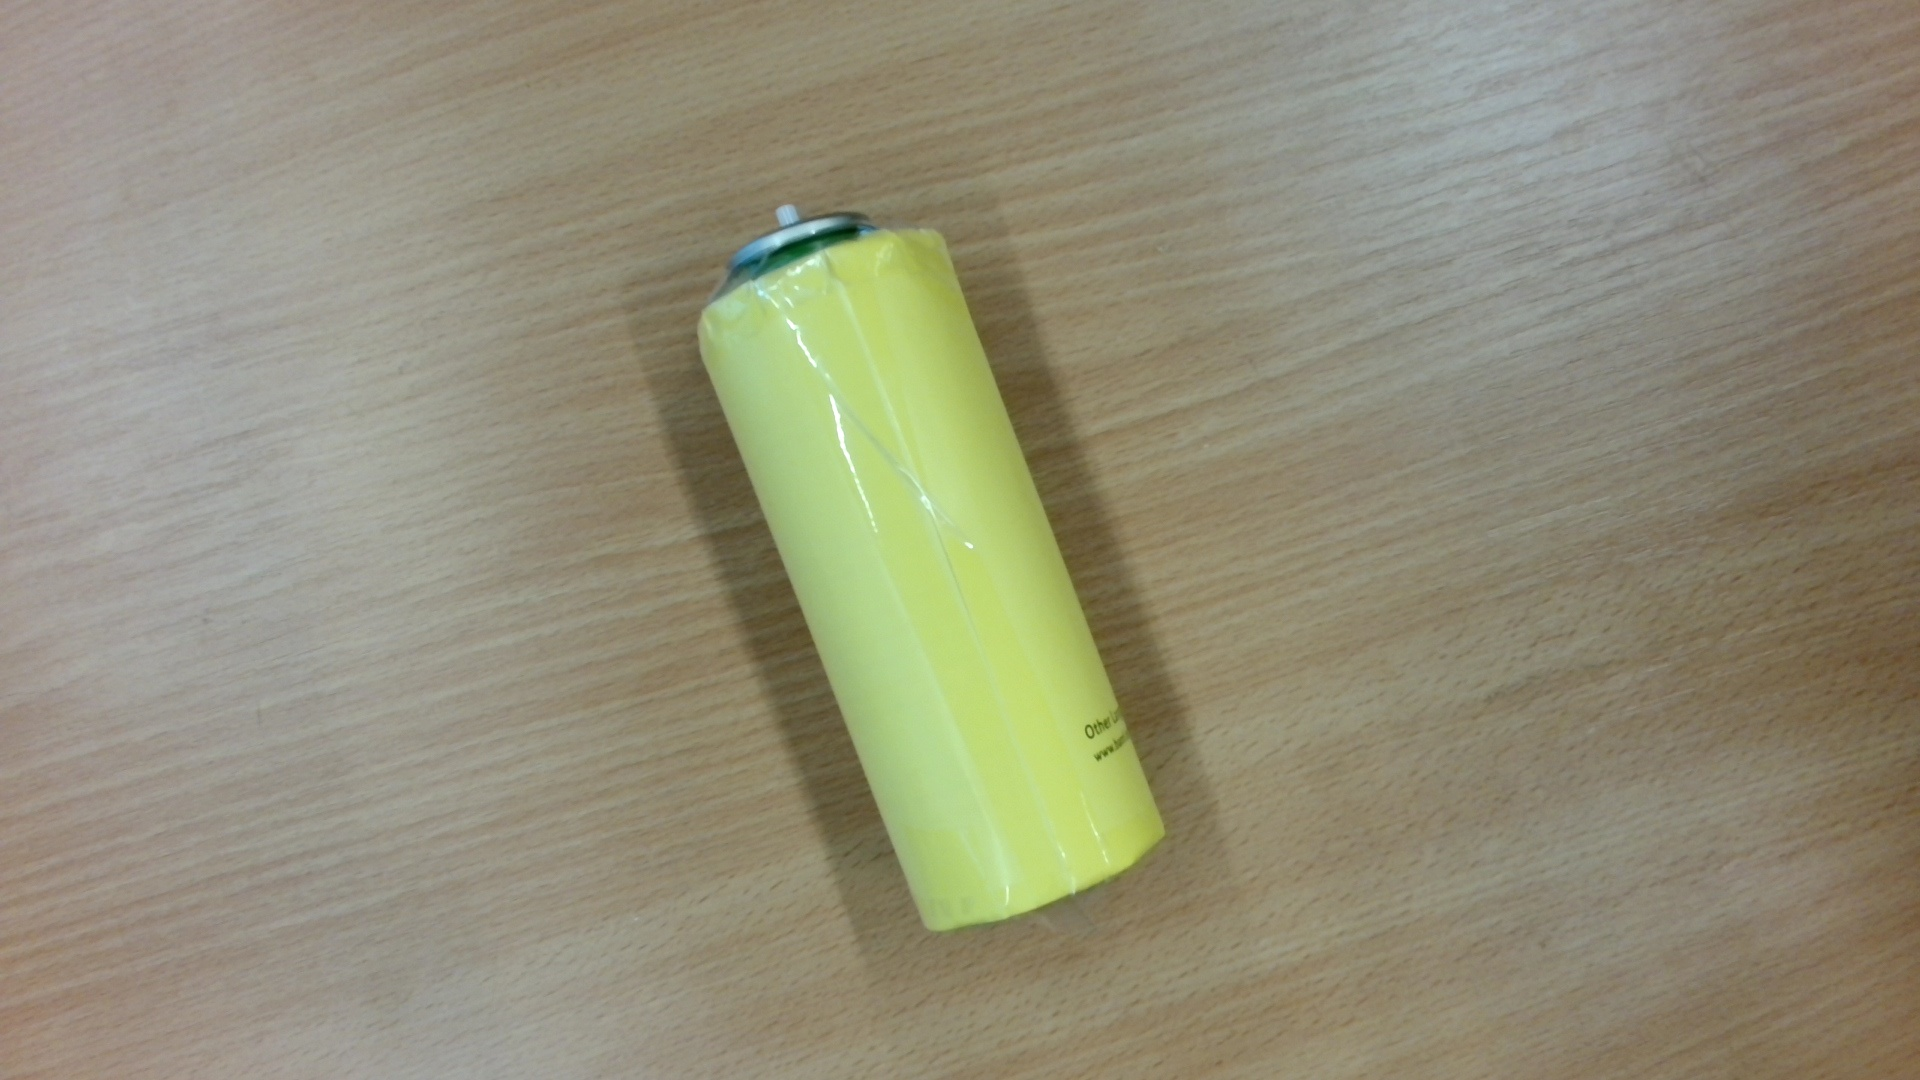Cylinder: (684, 195, 1185, 942)
